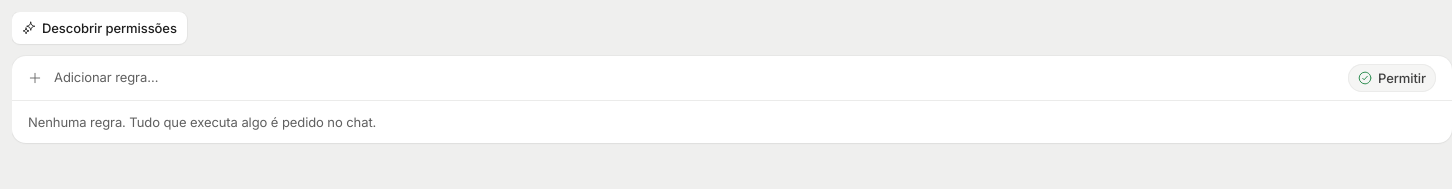
aba de permissões › liberar tudo com * é recusado e diz o porquê
Step 1. Type "Bash" into the field labelled "Adicionar regra…" → (695, 78), box [54,69,1336,87]
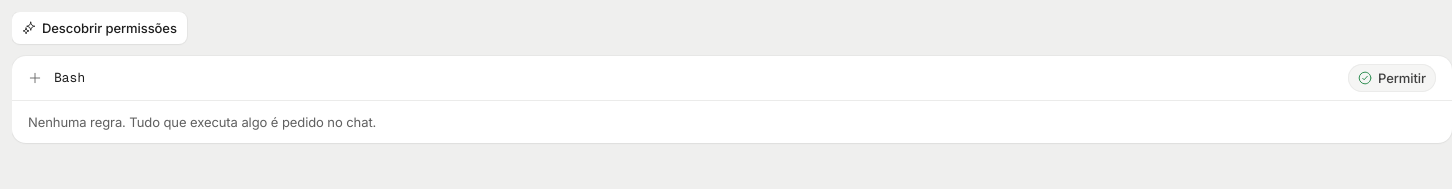
Step 2. Submit the form from the field named "Adicionar regra…", box [54,69,1336,87]
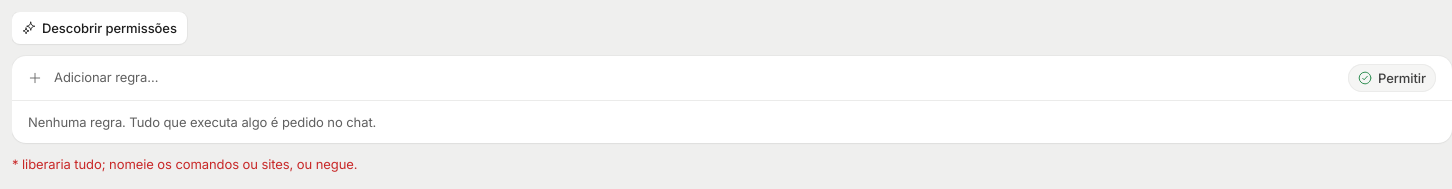
Now the message shows "liberaria tudo", box [12,156,357,172]
